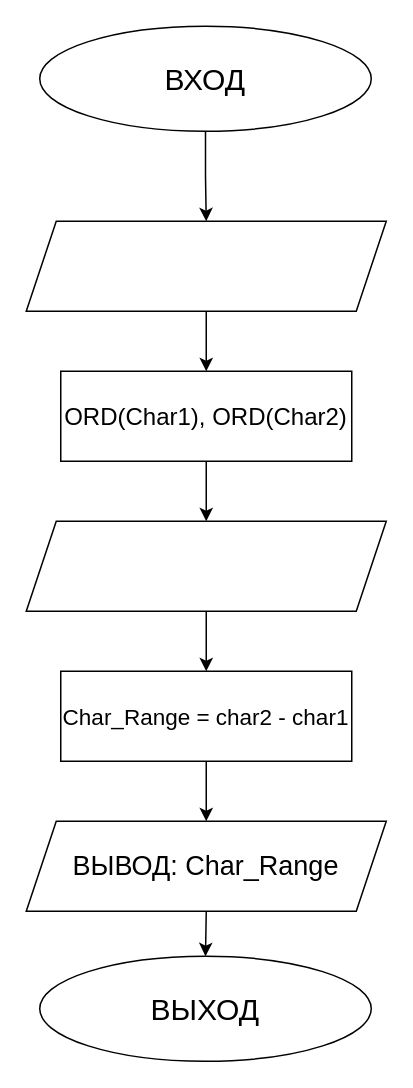
The diagram is 413 pixels wide and 1088 high, and some of its shapes have lost their labels. The shapes that lost their labels are listed below. From the top down, each one's centre as x and y in pixels, then its label:
the point at 205,265: Ввод: Char1, Char2
the point at 205,565: Вывод: Char1 - 96, Char2 - 96
